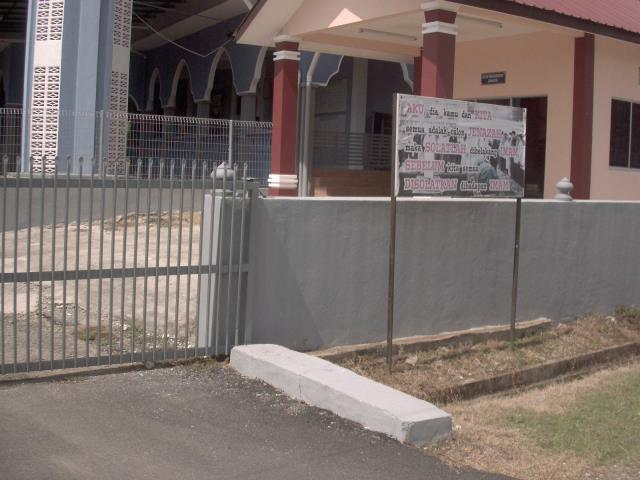ads_sign: (381, 86, 539, 211)
